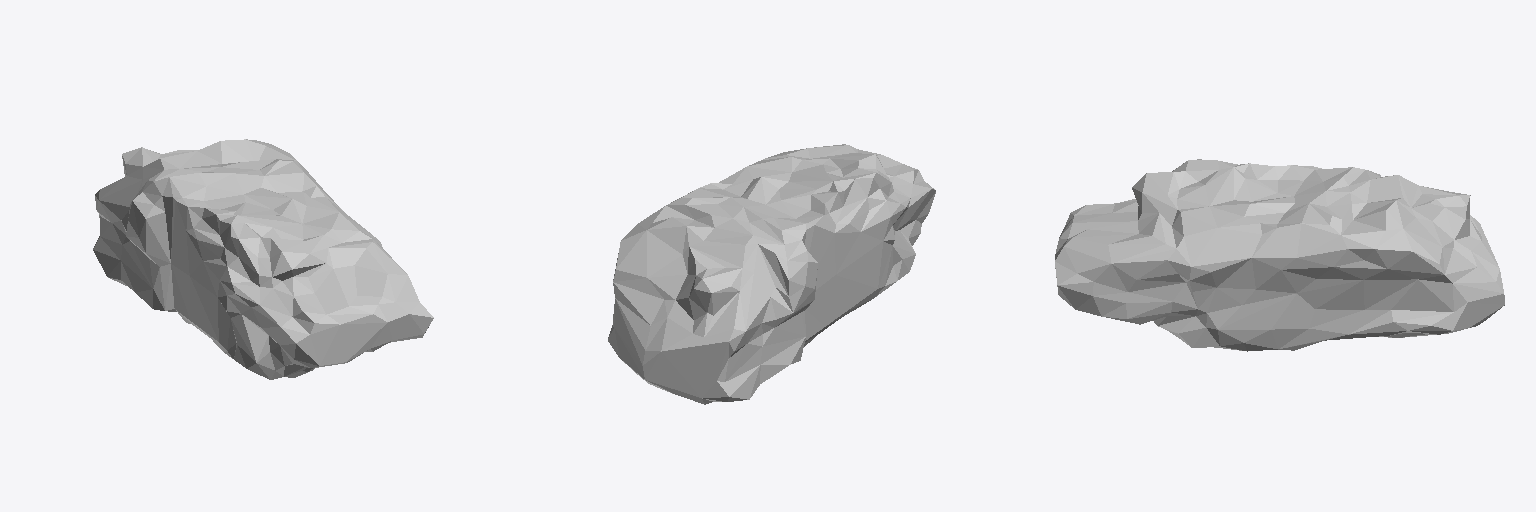
Rendered from Rock_9.obj.
The picture shows the model from 3 angles: view 1: azimuth 30°, elevation 25°; view 2: azimuth 150°, elevation 25°; view 3: azimuth 270°, elevation 25°; orthographic projection.
Visible parts, largest first — view 1: Rock_9; view 2: Rock_9; view 3: Rock_9.
Part boxes in pixels (x1,y1,x2,y2): Rock_9: (93, 139, 433, 379); Rock_9: (608, 144, 935, 404); Rock_9: (1055, 159, 1504, 351).
Bounding box in the file's own units: 0.7512 × 0.5926 × 1.77.